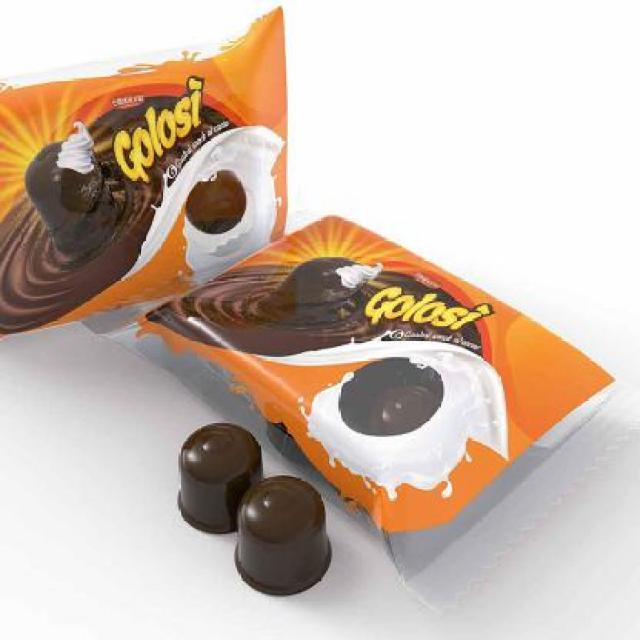Merendine: (129, 216, 626, 595)
Merendine packaged: (0, 4, 291, 340), (235, 476, 336, 596), (175, 416, 268, 538)
